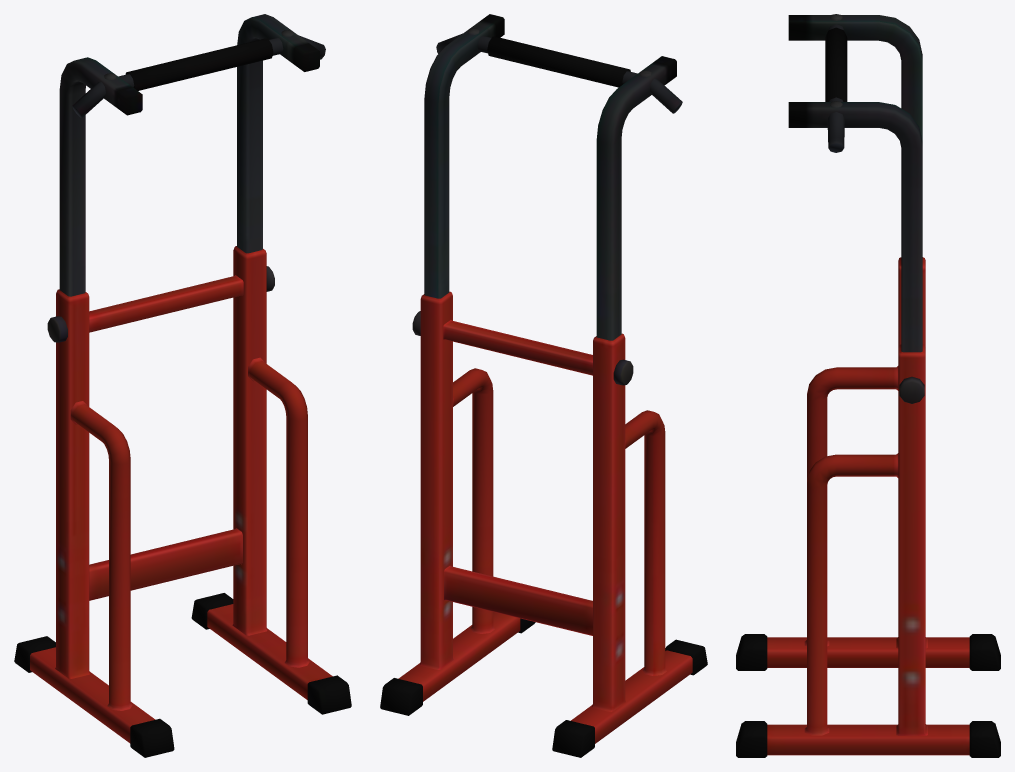
The model's file is pullup.glb.
3 views of the same model, side by side, from view 1: azimuth 30°, elevation 25°; view 2: azimuth 150°, elevation 25°; view 3: azimuth 270°, elevation 25° (orthographic). The views are drawn at different scales.
Size of the model in its own units: 9.91 by 24.39 by 9.03.
Materials: 1 (1 with a texture image).
